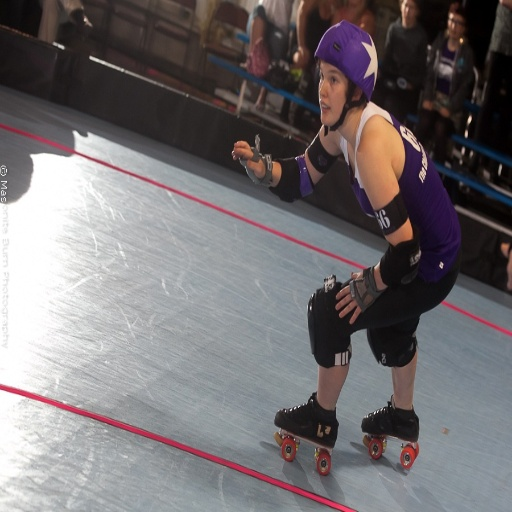hand: (332, 268, 377, 325), (232, 128, 271, 168), (500, 240, 511, 290), (296, 44, 310, 66), (420, 100, 432, 110), (438, 108, 449, 117)
